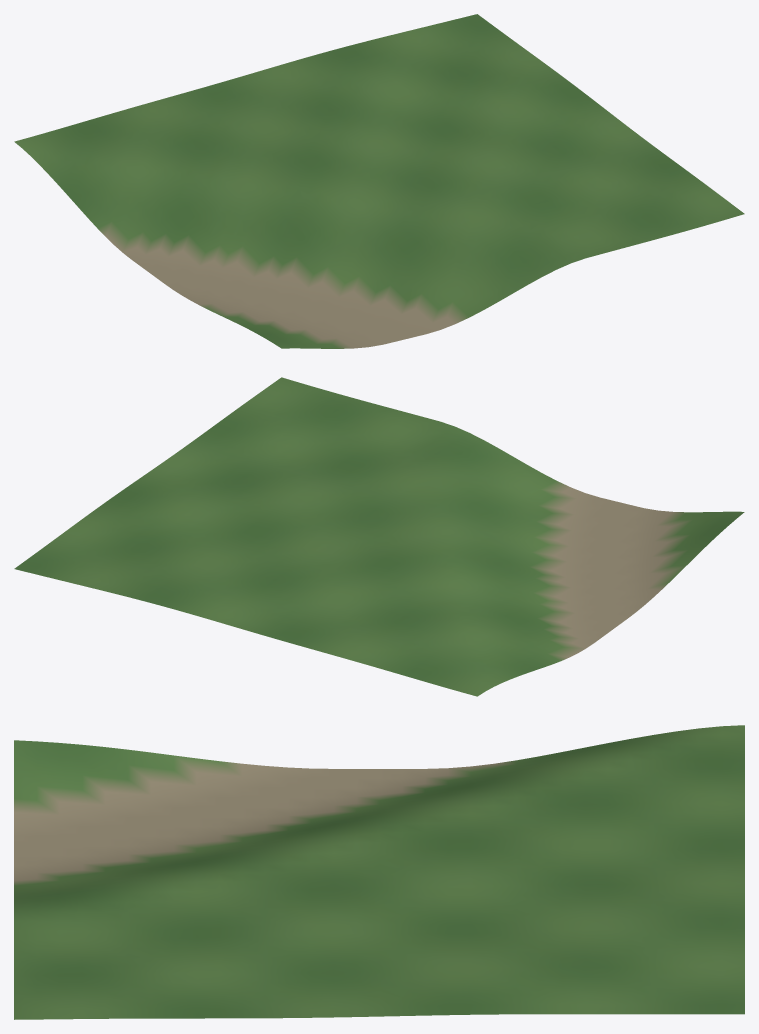
The model's file is chunk_5_6.glb.
3 renders of one model, top to bottom at view 1: azimuth 30°, elevation 25°; view 2: azimuth 150°, elevation 25°; view 3: azimuth 270°, elevation 25°, orthographic. The views are drawn at different scales.
Size of the model in its own units: 512 by 49.26 by 512.
